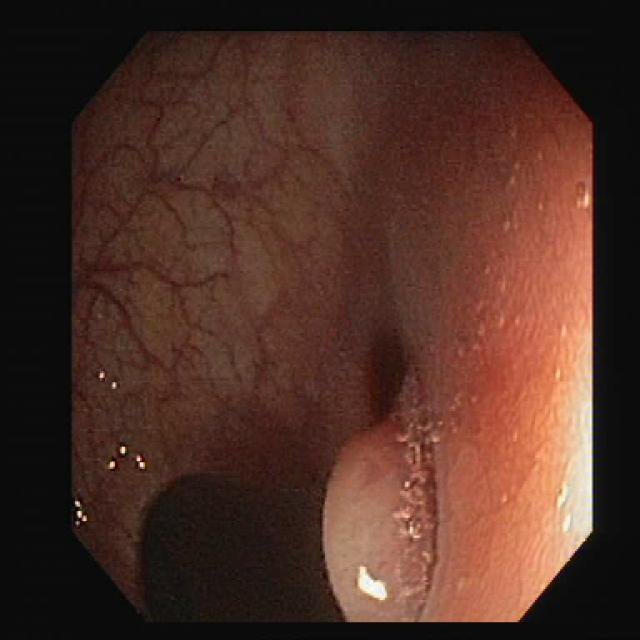tumor: (322, 373, 438, 620)
